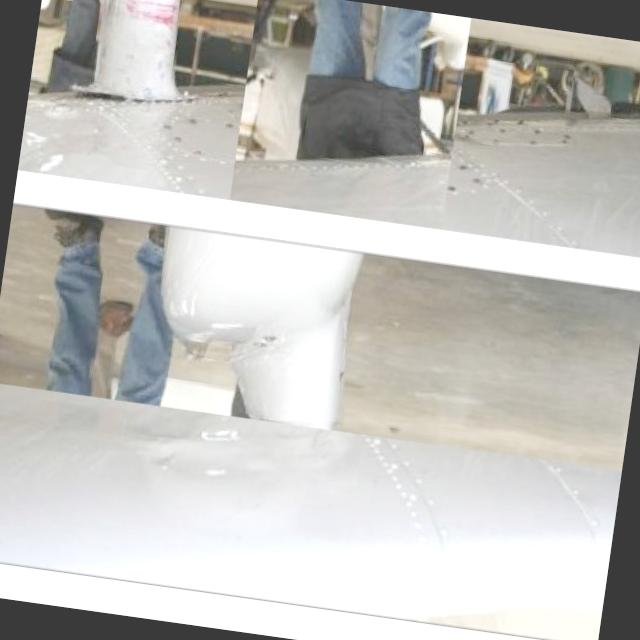dent: (188, 418, 244, 450)
